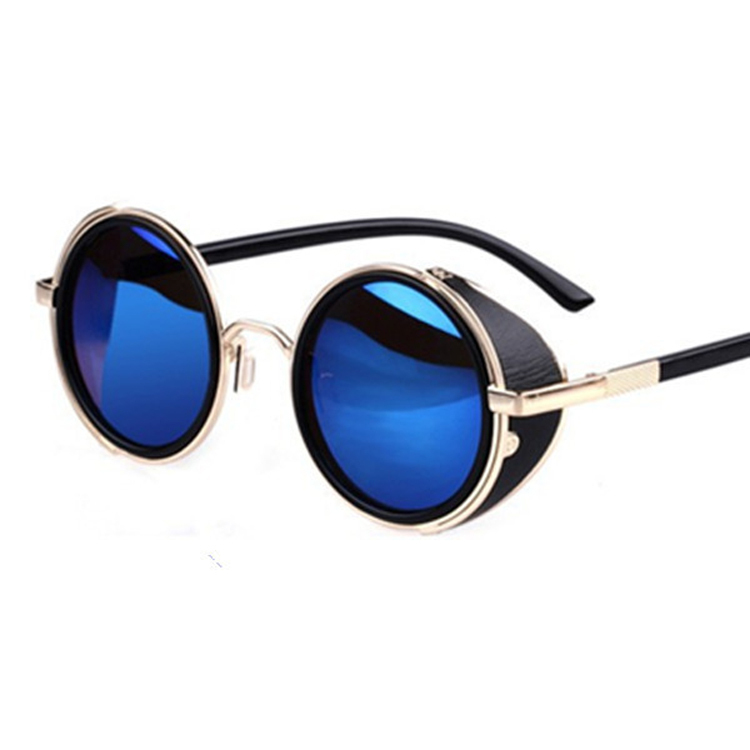sunglasses: (37, 206, 624, 535)
